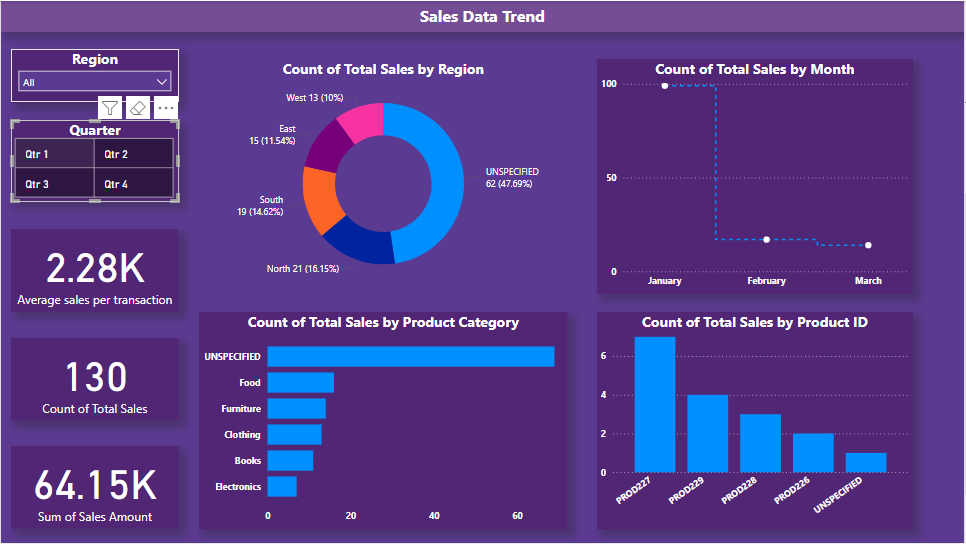

Layout of this report page (visuals, bound fields, positions):
{"tool":"powerbi","page":{"name":"Sales Data Trend","canvas":[1280,720],"ordinal":0},"visuals":[{"type":"textbox","box":[0,0,1280,41.3],"z":0},{"type":"lineChart","fields":{"Category":["Sales Data.Order Date.Variation.Date Hierarchy.Month"],"Y":["CountNonNull(Sales Data.Total Sales)"]},"box":[792.8,77.1,419.8,312.4],"z":1000},{"type":"barChart","fields":{"Category":["Sales Data.Product Category"],"Y":["CountNonNull(Sales Data.Total Sales)"]},"box":[262.9,412.9,490,289],"z":2000},{"type":"donutChart","fields":{"Category":["Sales Data.Region"],"Y":["CountNonNull(Sales Data.Total Sales)"]},"box":[262.9,77.1,490,312.4],"z":3000},{"type":"columnChart","fields":{"Y":["CountNonNull(Sales Data.Total Sales)"],"Category":["Sales Data.Product ID"]},"box":[792.8,412.9,419.8,289],"z":4000},{"type":"card","fields":{"Values":["Sales Data.Average sales per transactio"]},"box":[13.8,302.8,223,110.1],"z":5000},{"type":"card","fields":{"Values":["CountNonNull(Sales Data.Total Sales)"]},"box":[13.8,447.3,223,110.1],"z":6000},{"type":"card","fields":{"Values":["Sum(Sales Data.Sales Amount)"]},"box":[13.8,591.8,223,110.1],"z":7000},{"type":"advancedSlicerVisual","fields":{"Values":["Sales Data.Order Date.Variation.Date Hierarchy.Quarter"]},"box":[13.8,158.3,223,108.7],"z":8000},{"type":"slicer","title":"Region","fields":{"Values":["Sales Data.Region"]},"box":[13.8,63.3,223,71.6],"z":9000}]}

Visuals, with their boxes in screenshot pixels (x1, y1, x2, y2), scaled from the page's 1280x720 canvas onto the 966x544 screenshot:
textbox: <box>0,0,965,31</box>
lineChart - Sales Data.Order Date.Variation.Date Hierarchy.Month x CountNonNull(Sales Data.Total Sales): <box>598,58,915,294</box>
barChart - Sales Data.Product Category x CountNonNull(Sales Data.Total Sales): <box>198,312,568,530</box>
donutChart - Sales Data.Region x CountNonNull(Sales Data.Total Sales): <box>198,58,568,294</box>
columnChart - CountNonNull(Sales Data.Total Sales) x Sales Data.Product ID: <box>598,312,915,530</box>
card - Sales Data.Average sales per transactio: <box>10,229,179,312</box>
card - CountNonNull(Sales Data.Total Sales): <box>10,338,179,421</box>
card - Sum(Sales Data.Sales Amount): <box>10,447,179,530</box>
advancedSlicerVisual - Sales Data.Order Date.Variation.Date Hierarchy.Quarter: <box>10,120,179,202</box>
"Region" slicer: <box>10,48,179,102</box>
